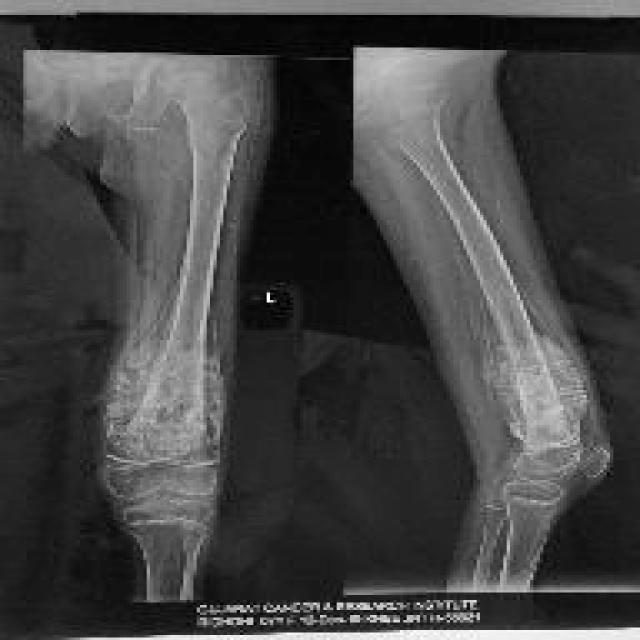bone-cancer: (100, 339, 224, 453), (476, 326, 590, 438)
